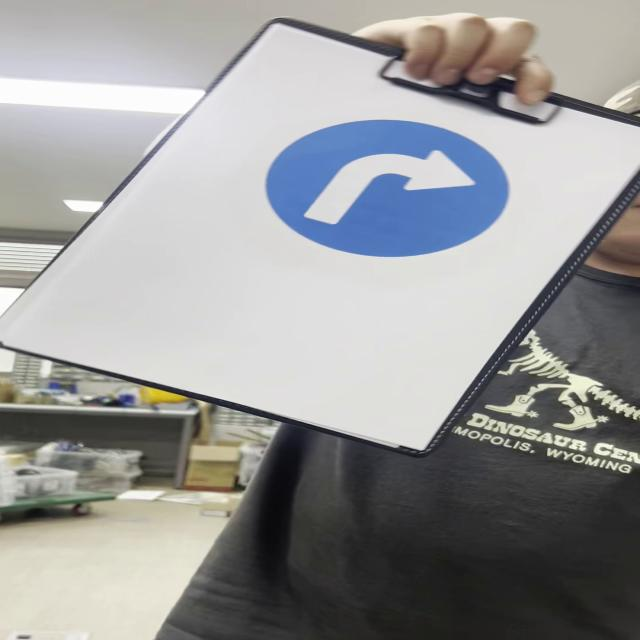right: (260, 119, 514, 260)
